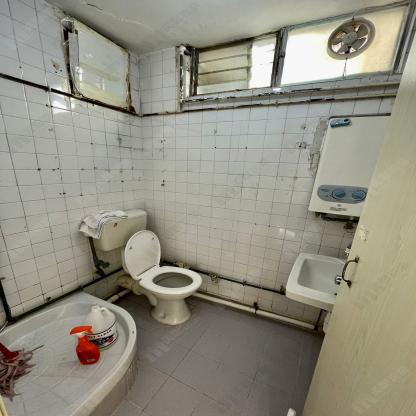Exhaust Fan: (321, 10, 383, 64)
Toilet: (85, 208, 204, 323)
Toilet Sink: (284, 251, 348, 311)
Water Heater: (306, 116, 391, 218)
